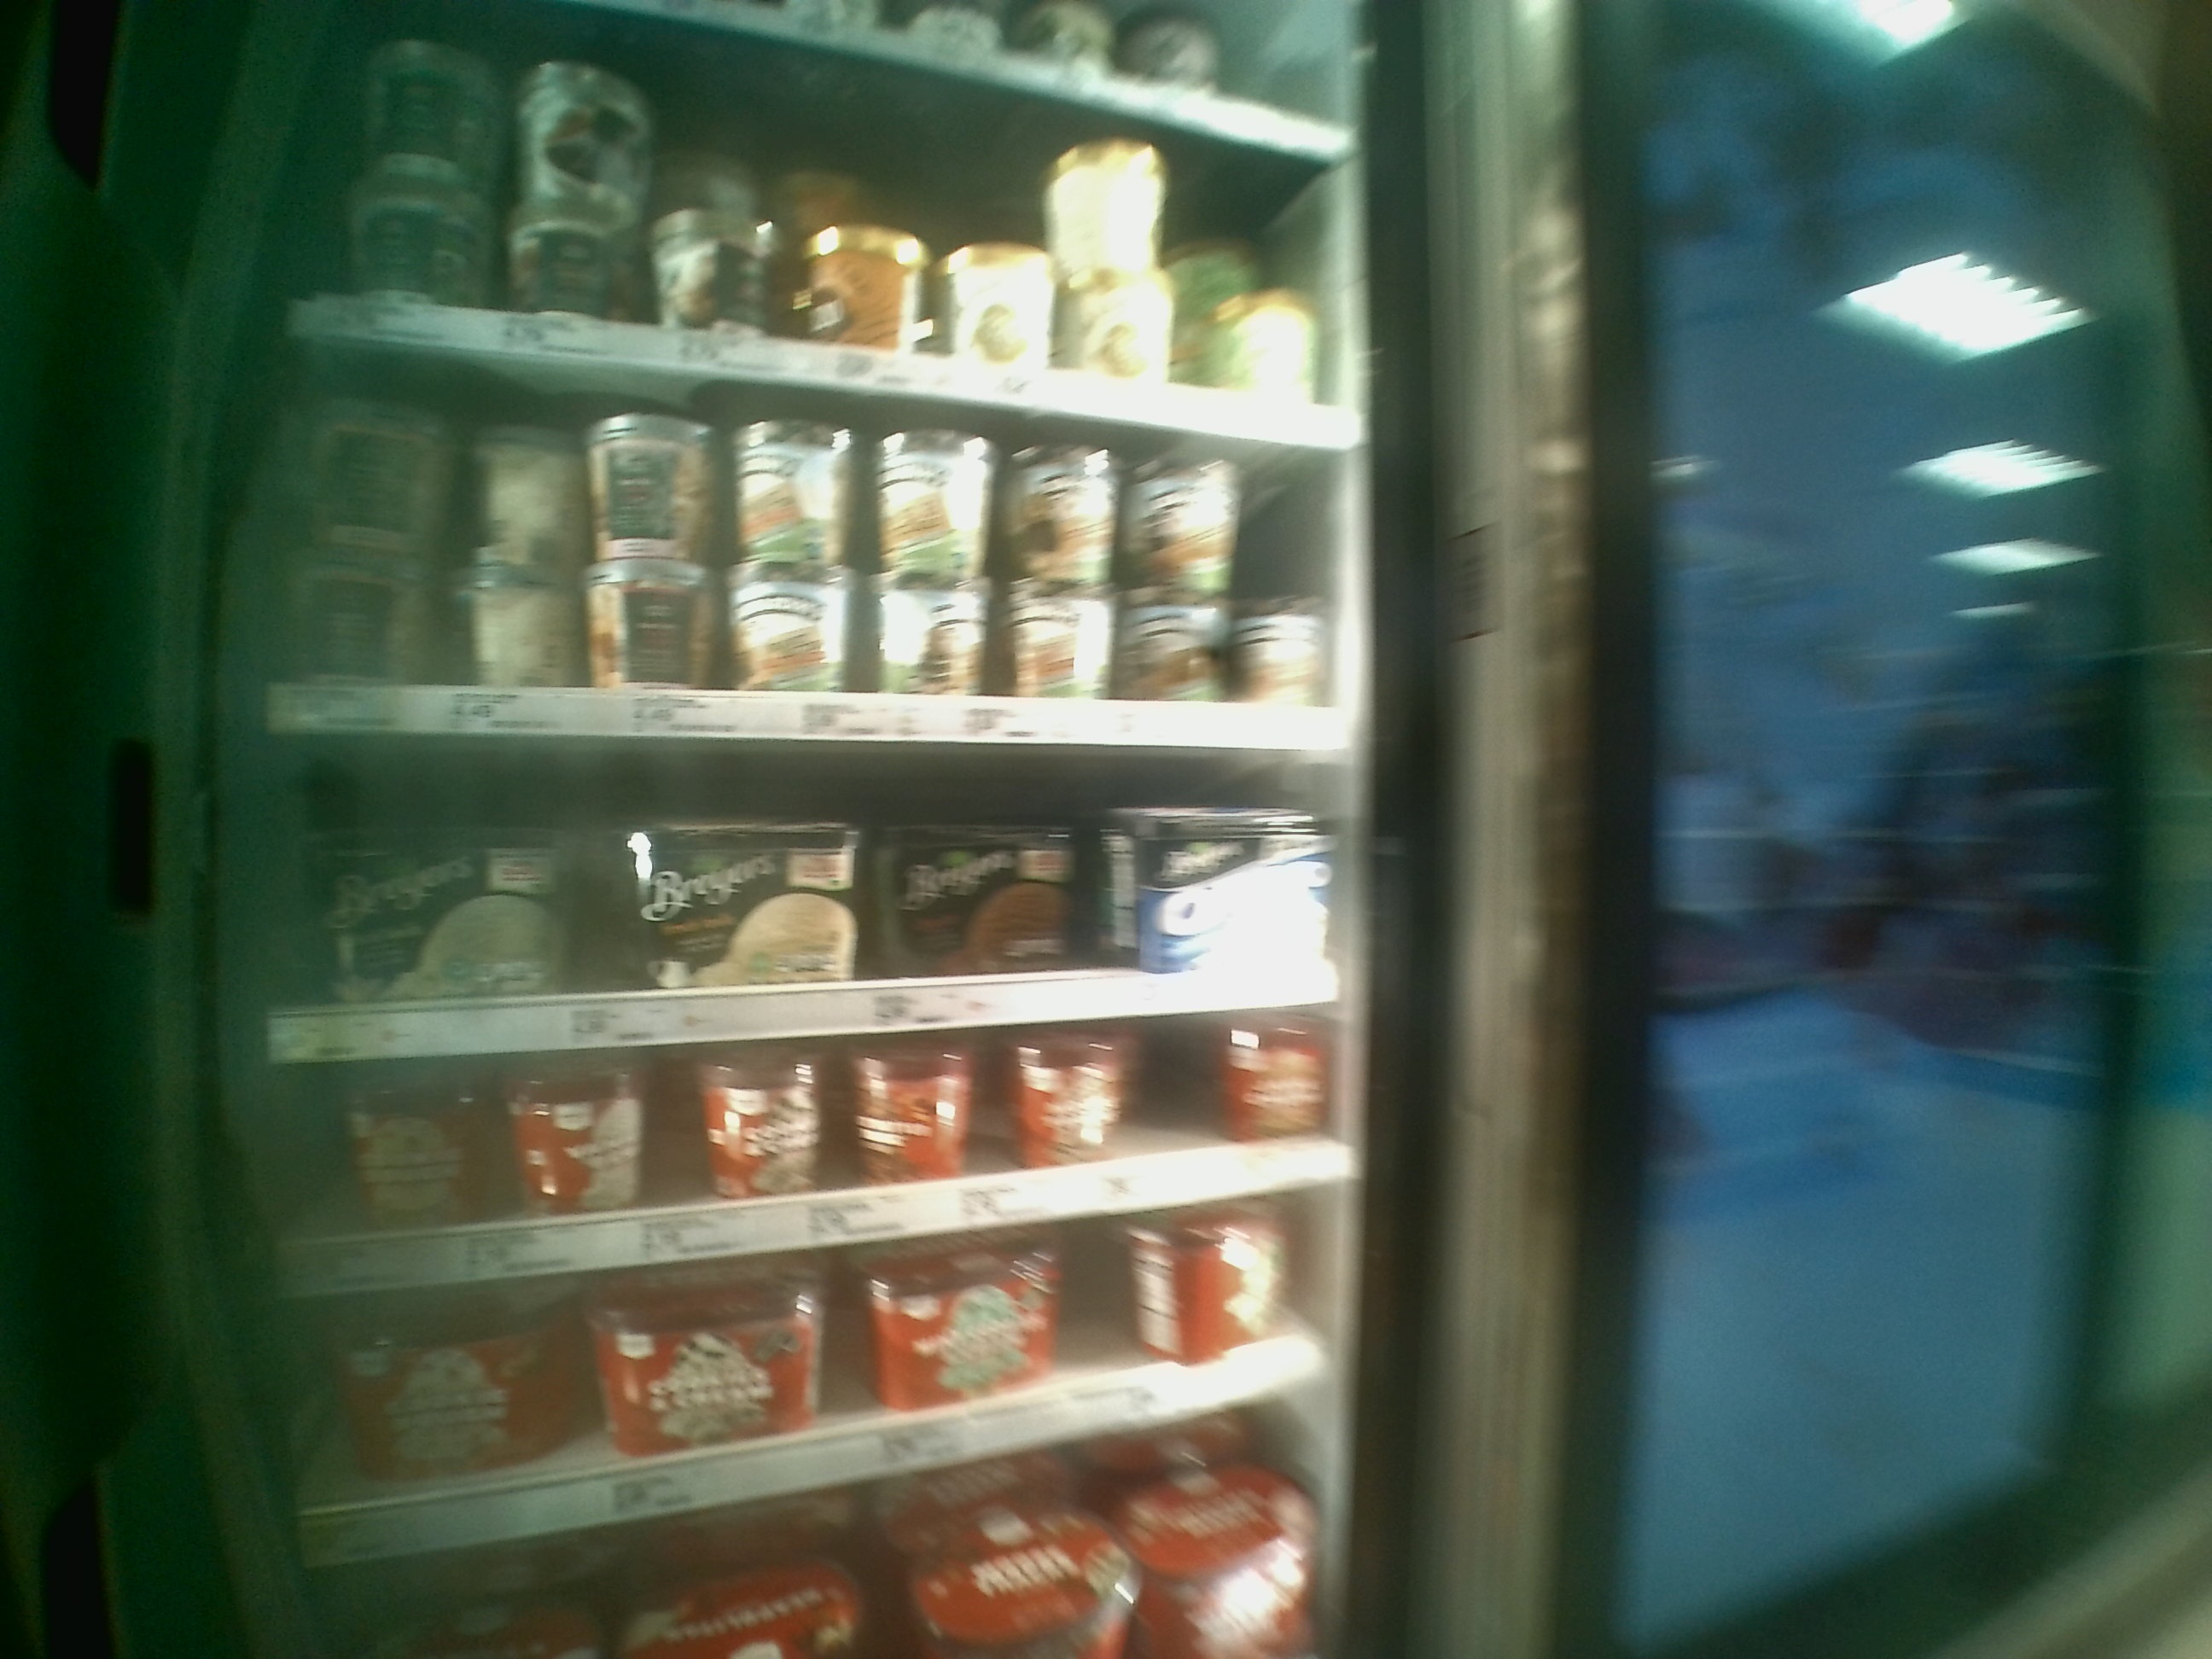ice-cream-shelf: (287, 735, 1343, 1058)
